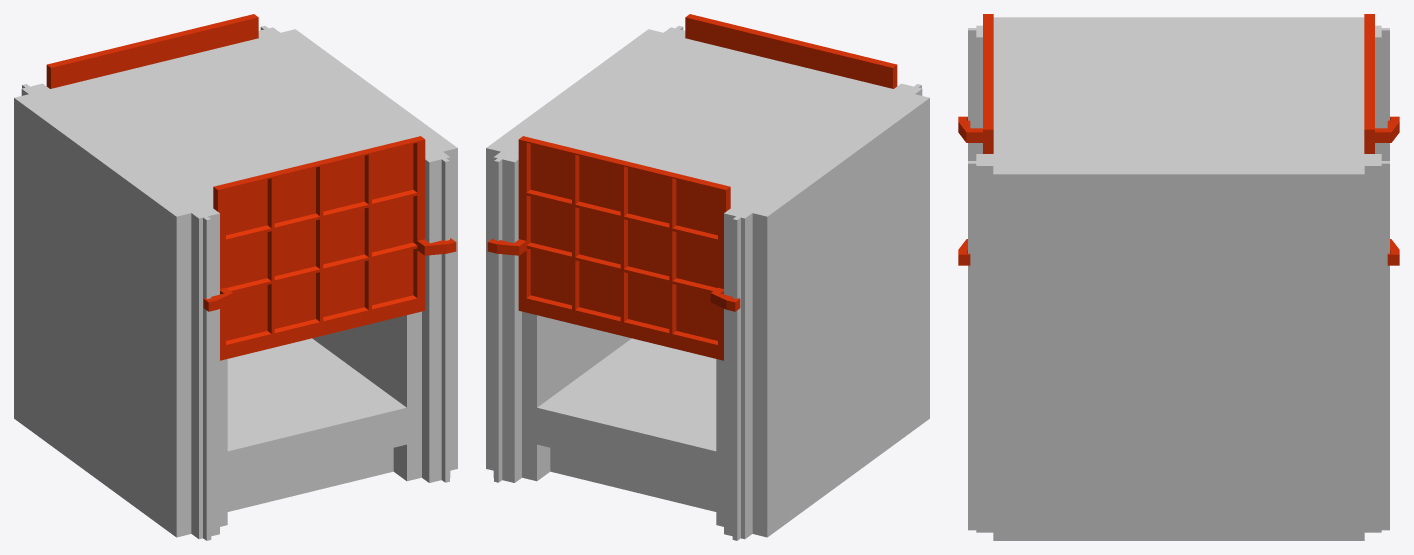
The model's file is Test_Smelter.fbx.
The picture shows the model from 3 angles, left to right: view 1: azimuth 30°, elevation 25°; view 2: azimuth 150°, elevation 25°; view 3: azimuth 270°, elevation 25°; orthographic projection. The views are drawn at different scales.
Visible parts, largest first — view 1: Smelter; view 2: Smelter; view 3: Smelter.
Boxes of the visible parts, x1,y1,x2,y2 form: Smelter: [14, 14, 457, 540]; Smelter: [486, 14, 929, 540]; Smelter: [958, 14, 1399, 540].
Bounding box in the file's own units: 200 × 238 × 232.
